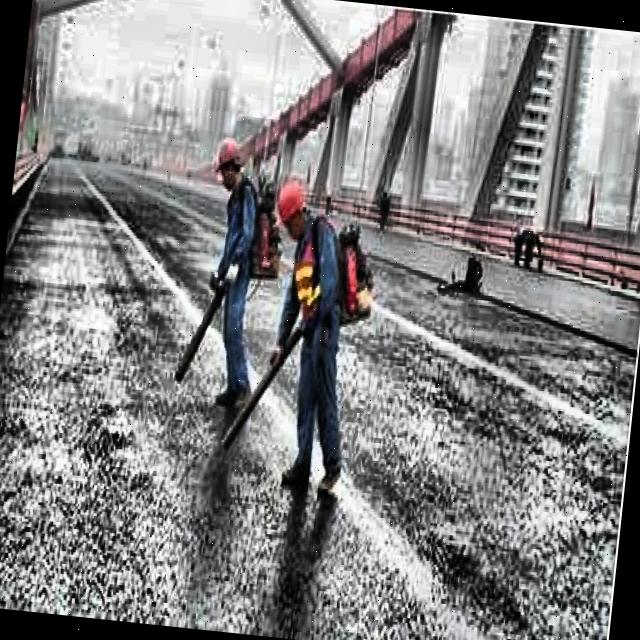helmet: (271, 173, 313, 240), (212, 131, 244, 190)
